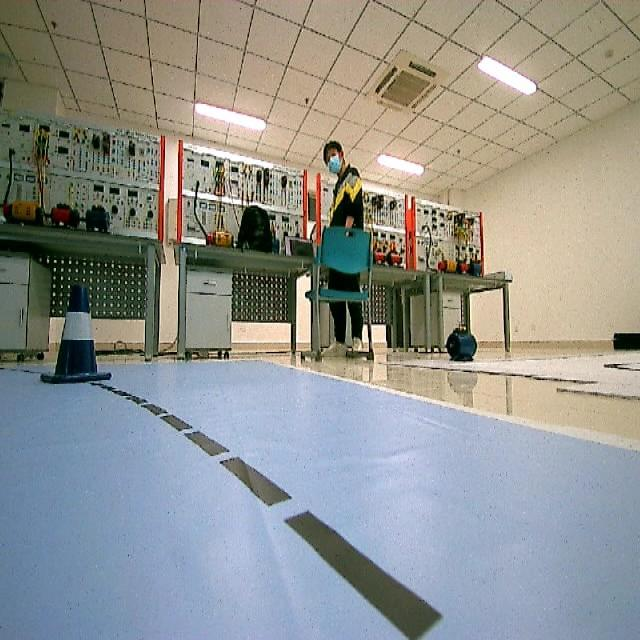obstacle: (39, 267, 127, 390)
